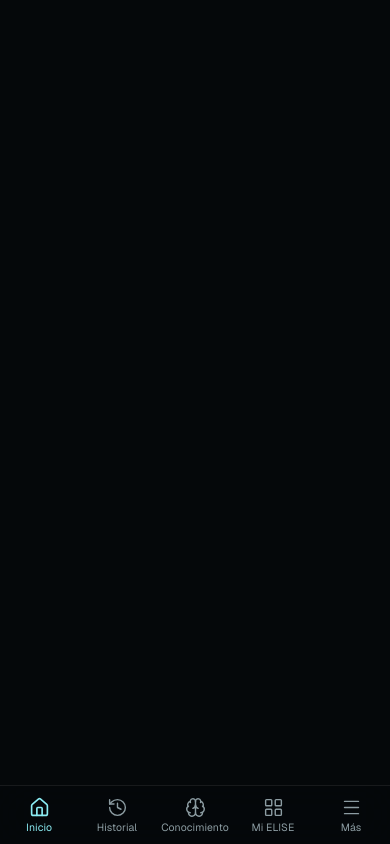
Test case: bottom navigation › Mi ELISE opens the person's modules only, and where to manage them
Click the button "Mi ELISE" at (273, 815), box 234,786 -> 312,843
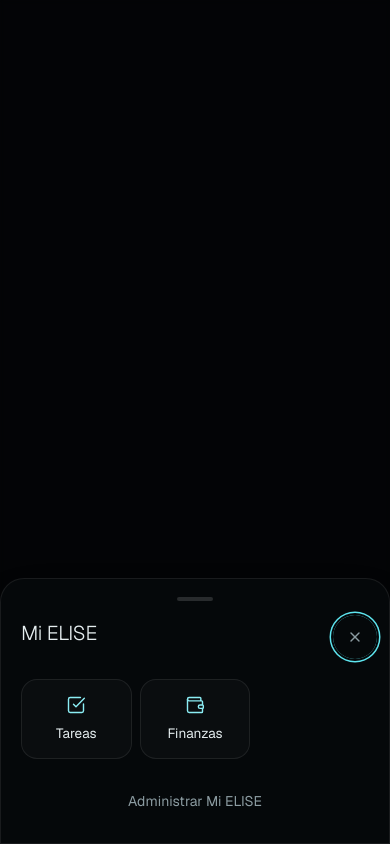
expect the link "Finanzas" is shown: met, box 140,679 -> 250,759
